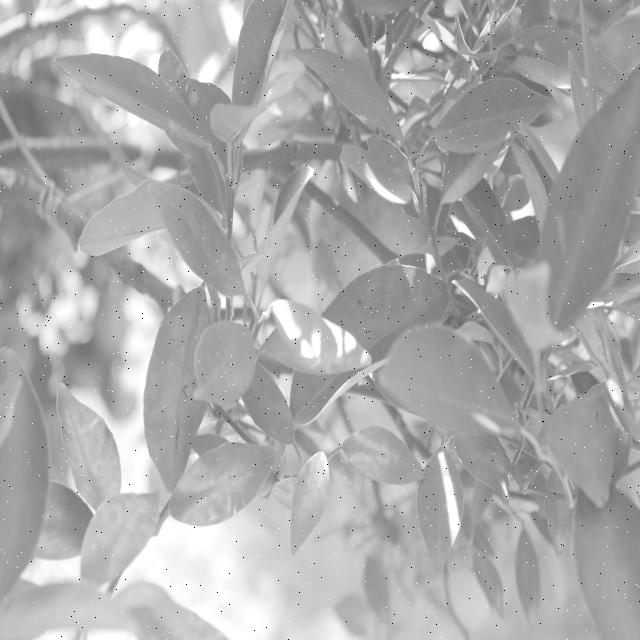blackspot: (166, 321, 197, 459), (82, 440, 118, 498), (350, 290, 389, 322), (312, 55, 332, 77)
